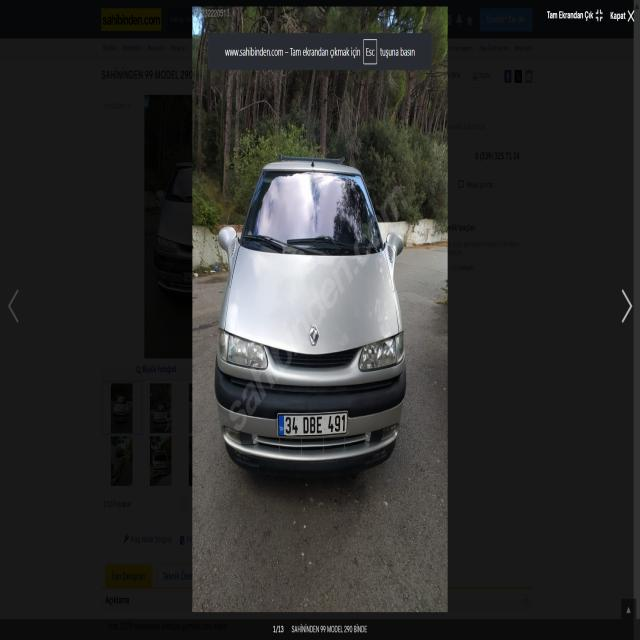renault: (300, 316, 330, 352)
